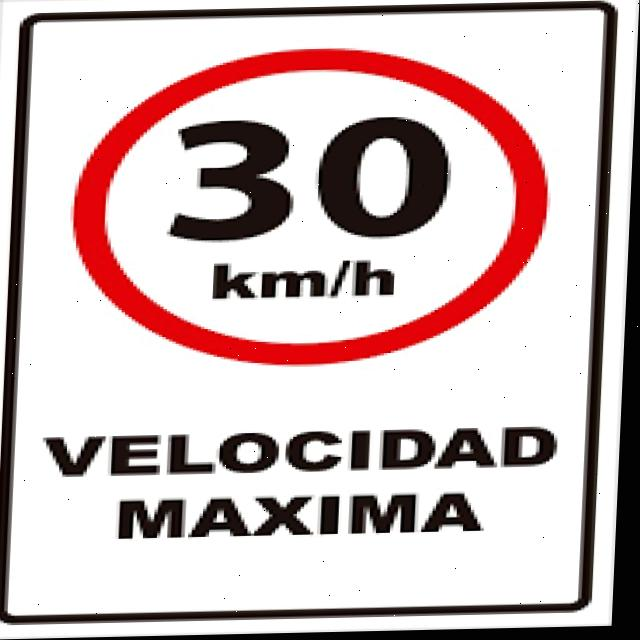Speed limit 30: (65, 43, 559, 371)
